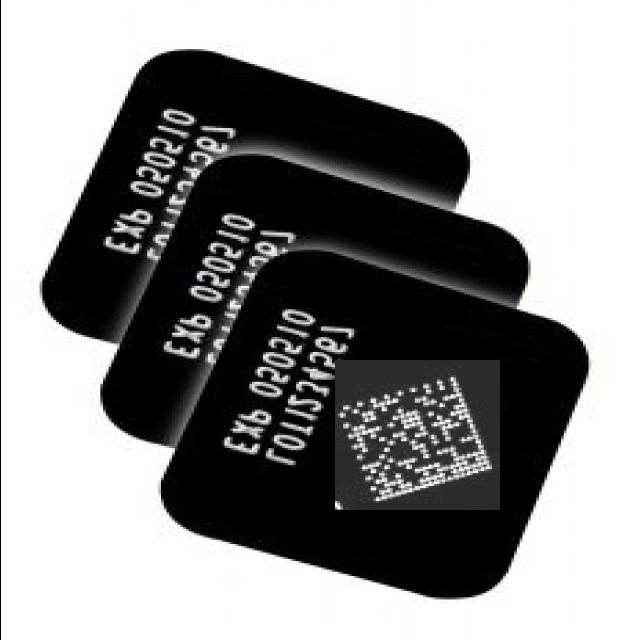DataMatrix: (334, 360, 499, 510)
